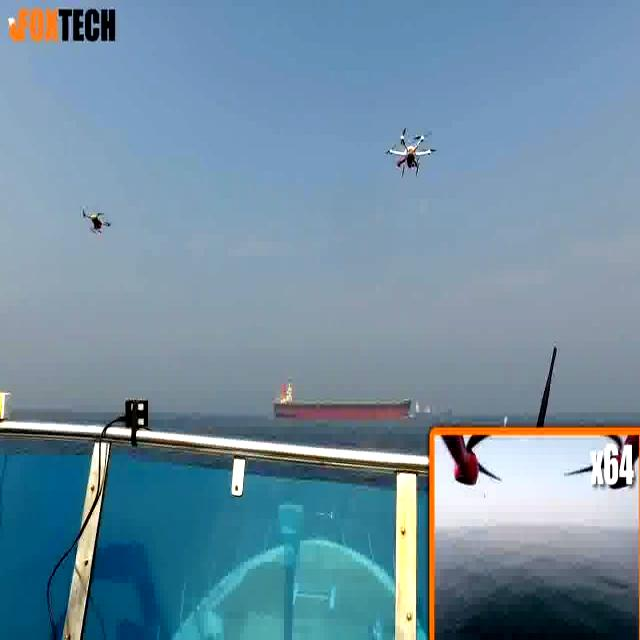drone: (377, 116, 440, 186), (75, 190, 123, 245)
